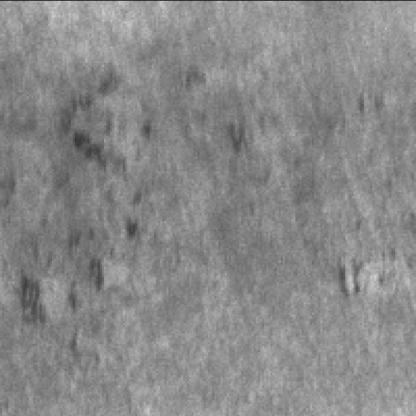rolled-in_scale: (27, 71, 150, 360), (331, 241, 393, 302)
